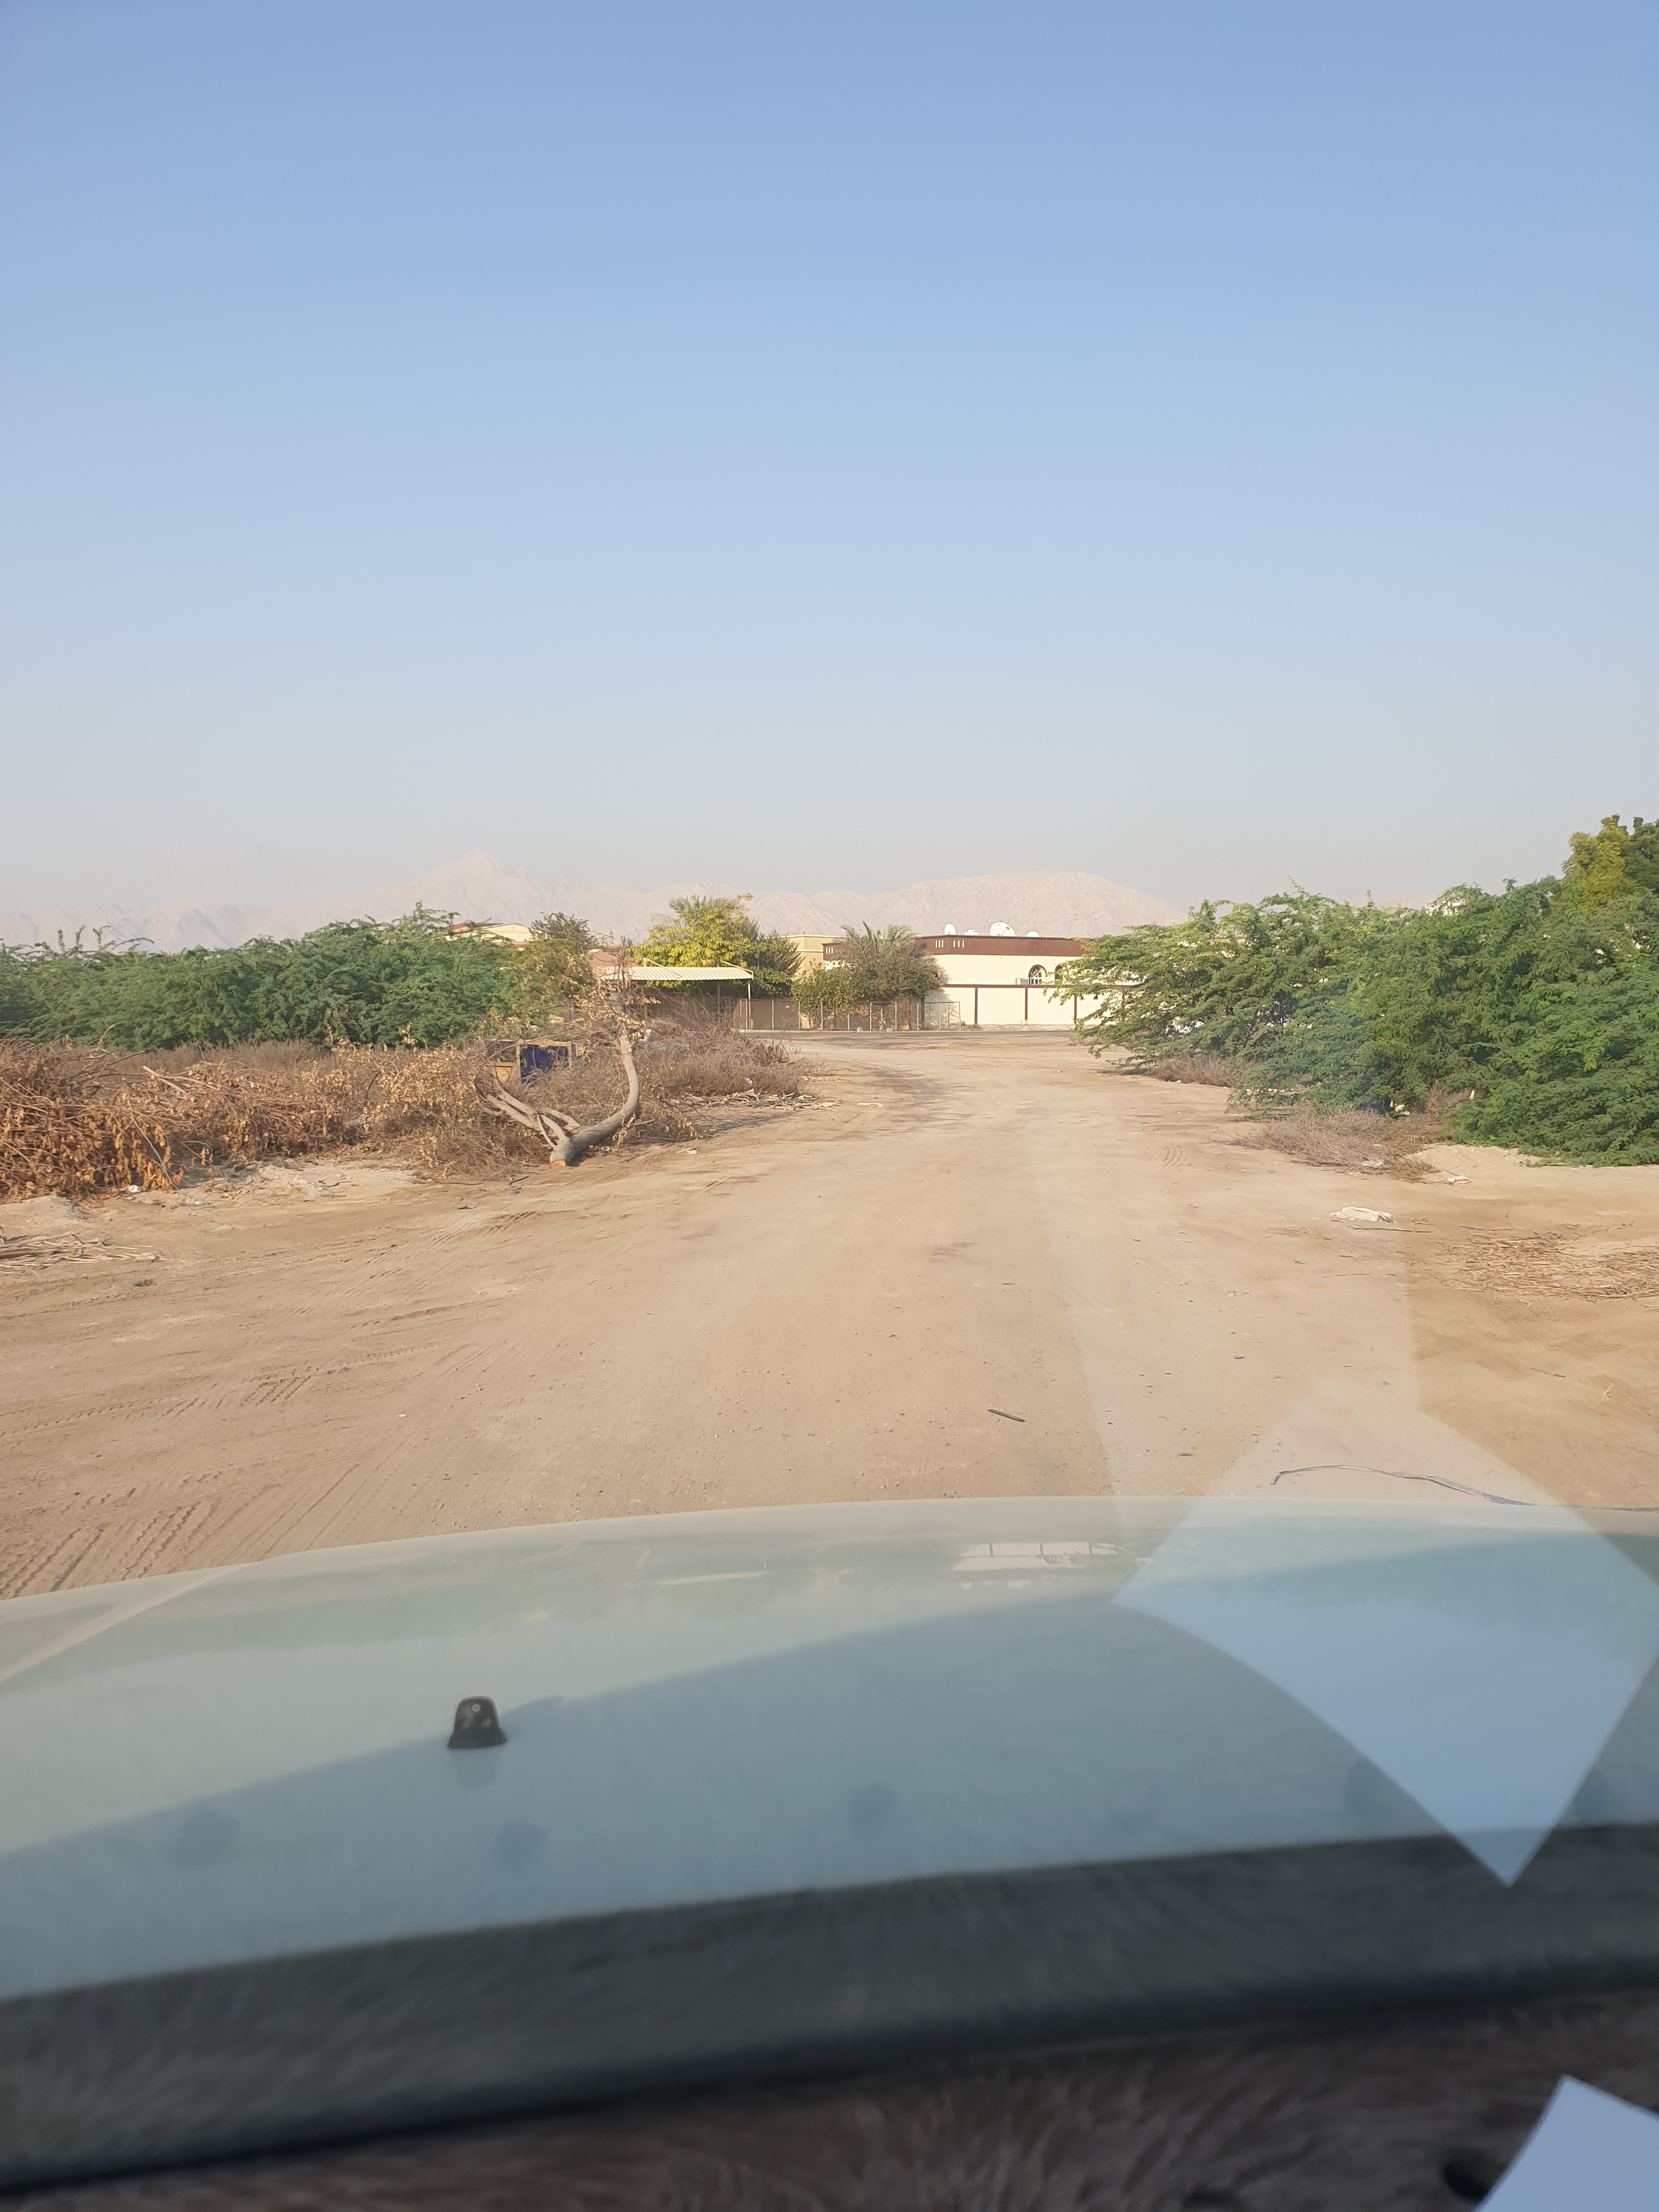fallen_trees: (390, 1103, 720, 1200), (218, 1111, 471, 1191), (709, 1078, 842, 1129)
